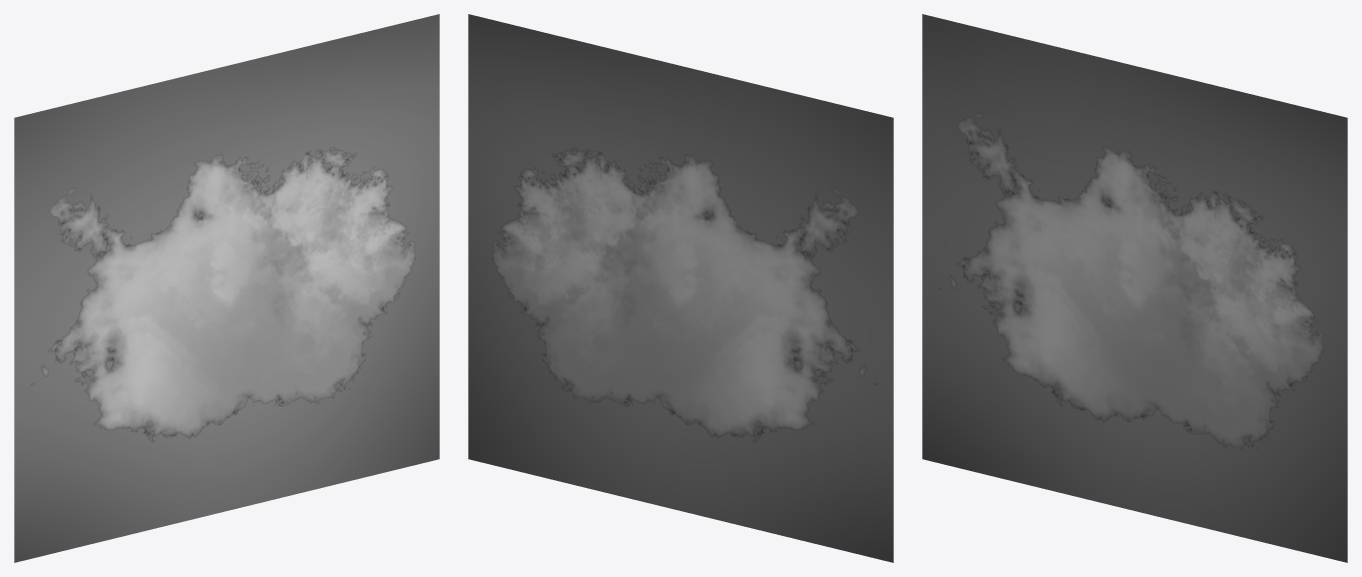
The model's file is cloud_plane.obj.
3 views of the same model, side by side, from view 1: azimuth 30°, elevation 25°; view 2: azimuth 150°, elevation 25°; view 3: azimuth 330°, elevation 25° (orthographic).
Visible parts, largest first — view 1: plane; view 2: plane; view 3: plane.
Part boxes in pixels (box(x1,y1,x2,y2)): plane: box(14, 14, 439, 562); plane: box(468, 14, 893, 562); plane: box(922, 14, 1347, 562).
Size of the model in its own units: 0.3 by 0.3 by 0.
1 material, 1 textured.
